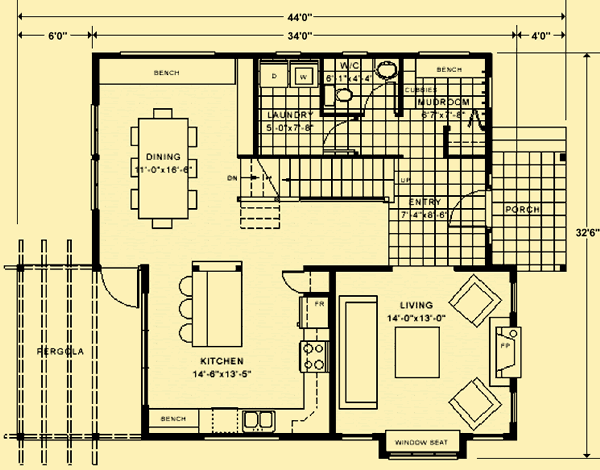bathroom is with small and large sink: (323, 55, 405, 117)
dining room has a dining table: (92, 55, 240, 260)
laundry room is with washer and dryer: (251, 54, 323, 159)
livingroom has a large sofa, small sofas and coffee table and large window seat: (334, 268, 523, 458)
stairs to the other floors: (231, 155, 402, 218)
the kitchen has a breakfast counter, cooking range and twin sink: (143, 254, 338, 446)
this is an entry porch: (403, 155, 569, 271)
